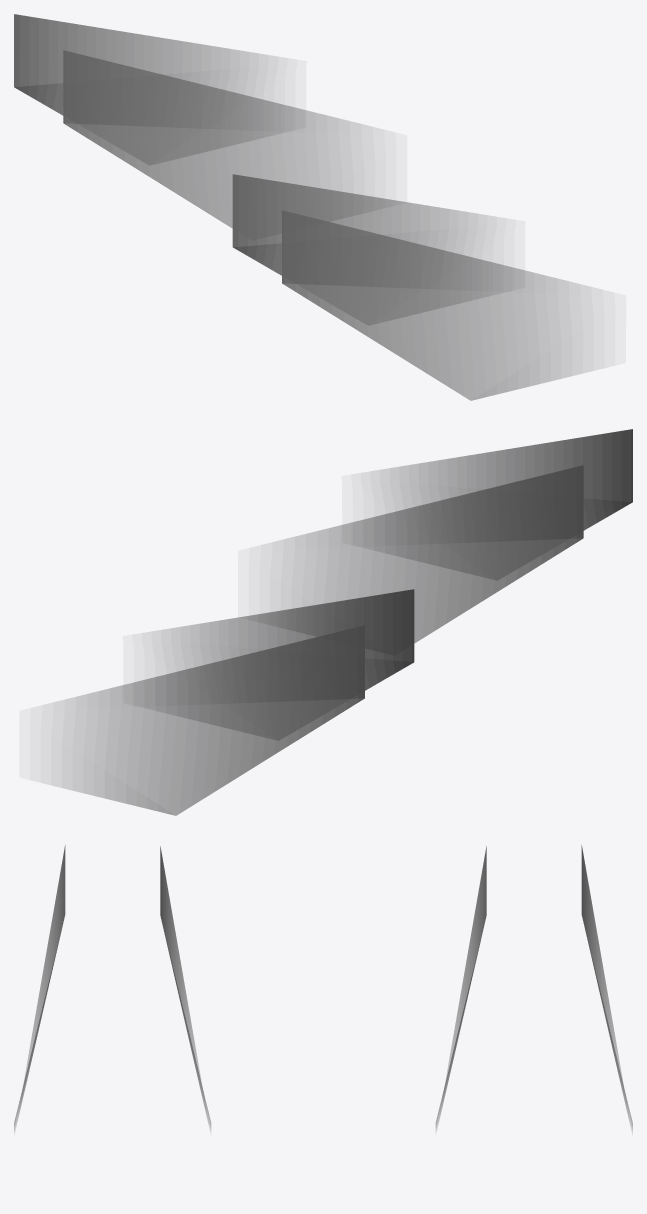
Rendered from Archives_Alpha_11.glb.
3 views of the same model, one above another, from view 1: azimuth 30°, elevation 25°; view 2: azimuth 150°, elevation 25°; view 3: azimuth 270°, elevation 25° (orthographic). The views are drawn at different scales.
Visible parts, largest first — view 1: Archives_Alpha_11; view 2: Archives_Alpha_11; view 3: Archives_Alpha_11.
Part boxes in pixels (x1=…): Archives_Alpha_11: x1=14, y1=14, x2=583, y2=400; Archives_Alpha_11: x1=62, y1=429, x2=632, y2=815; Archives_Alpha_11: x1=14, y1=845, x2=632, y2=1131.
Size of the model in its own units: 23.75 by 14.75 by 40.75.
1 material, 1 textured.
